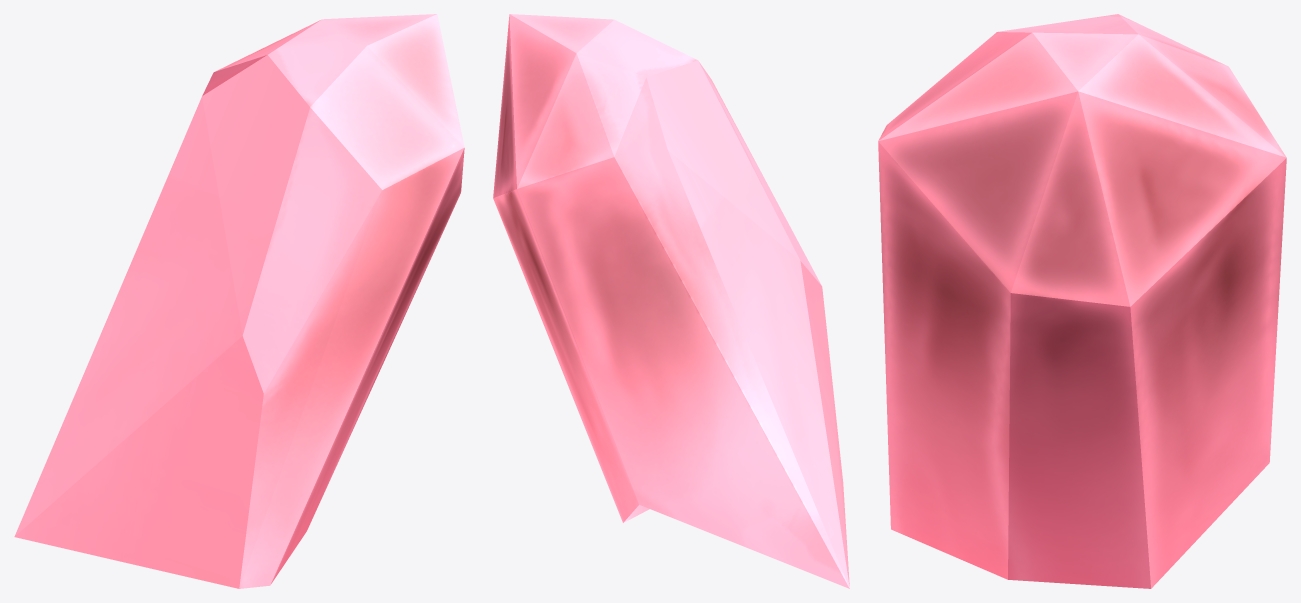
File: crystal_red_single3.fbx
3 renders of one model, left to right at view 1: azimuth 30°, elevation 25°; view 2: azimuth 150°, elevation 25°; view 3: azimuth 270°, elevation 25°, orthographic. The views are drawn at different scales.
Visible parts, largest first — view 1: crystal_red_single_003; view 2: crystal_red_single_003; view 3: crystal_red_single_003.
Boxes of the visible parts, x1=… form: crystal_red_single_003: x1=14, y1=14, x2=464, y2=588; crystal_red_single_003: x1=493, y1=14, x2=849, y2=588; crystal_red_single_003: x1=878, y1=14, x2=1286, y2=588.
Size of the model in its own units: 0.6601 by 0.7604 by 0.4759.
